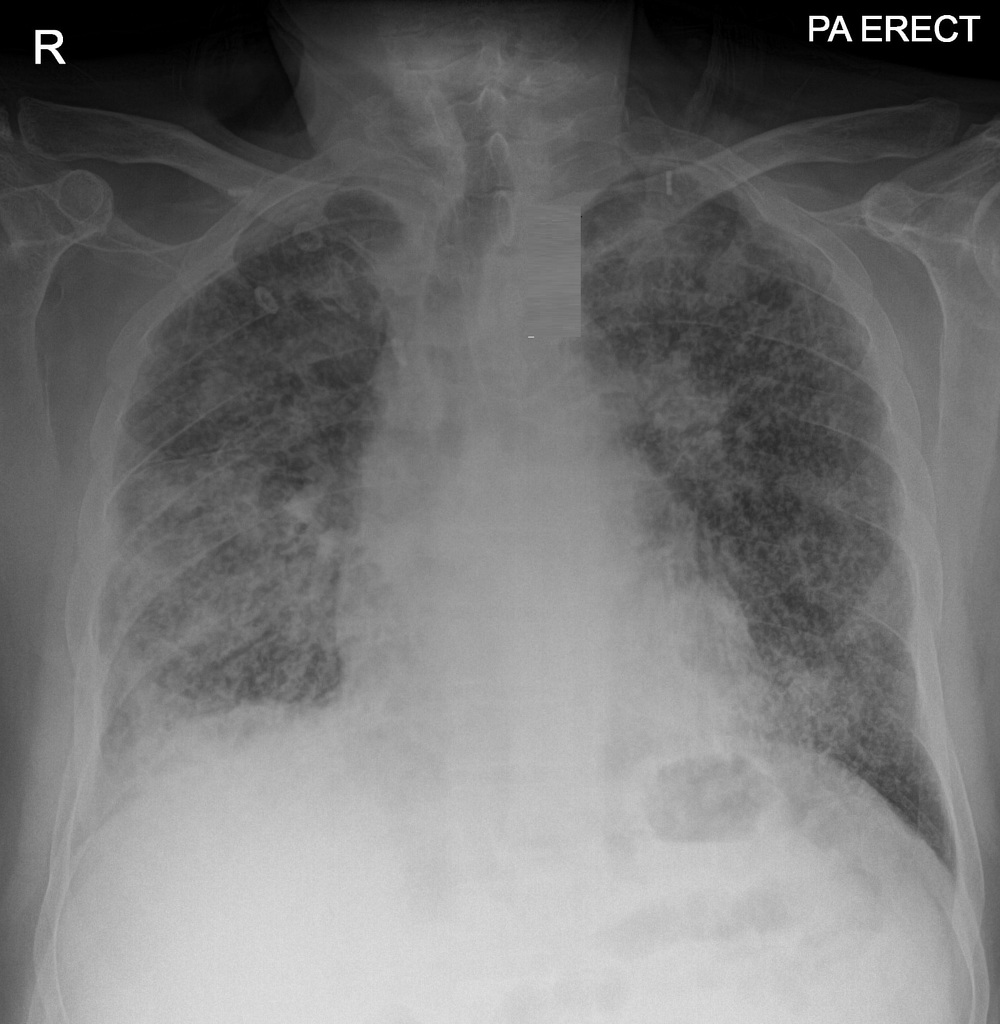cancer: (570, 172, 936, 762), (62, 236, 364, 728)
